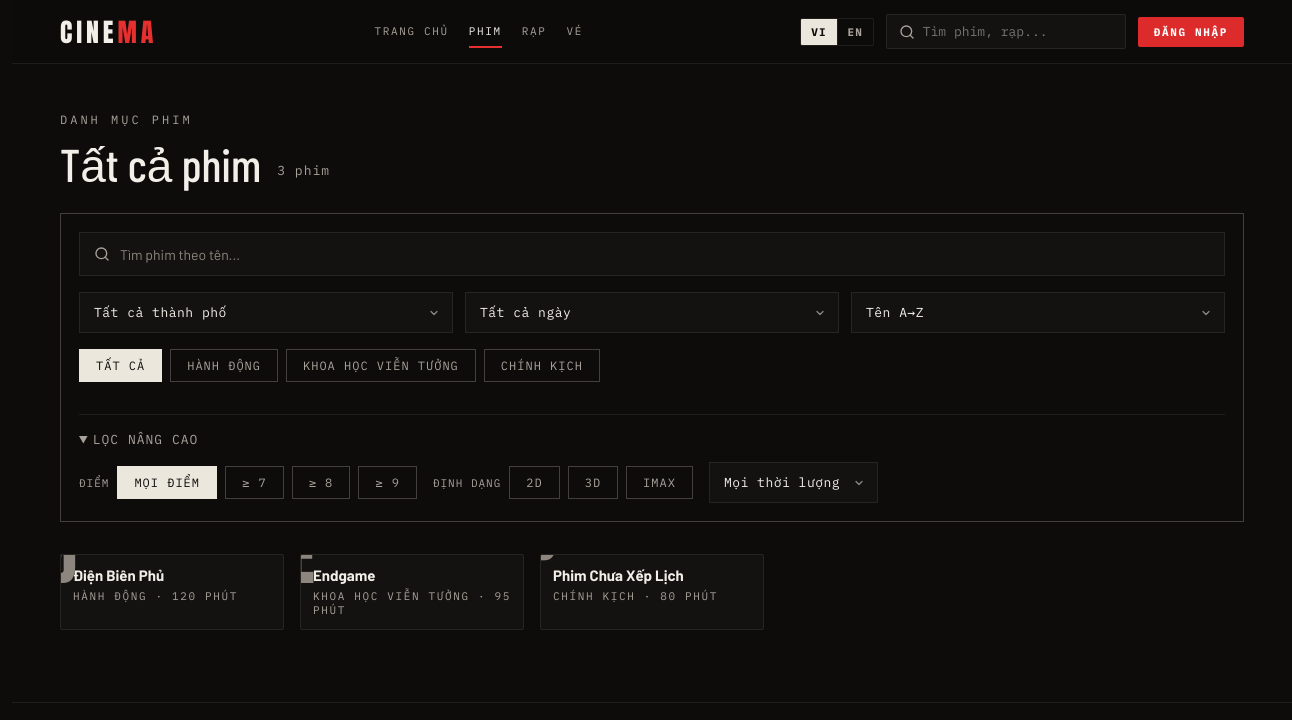
Scenario: Movies › chip điểm ≥ 8 chỉ giữ phim đủ điểm
Check: the text "Danh mục phim" is shown, box [60,112,193,127]
Check: the text "Điện Biên Phủ" is shown, box [73,566,164,584]
Click the button "≥ 8": (321, 483) [292,466,350,499]
(page scrolled)
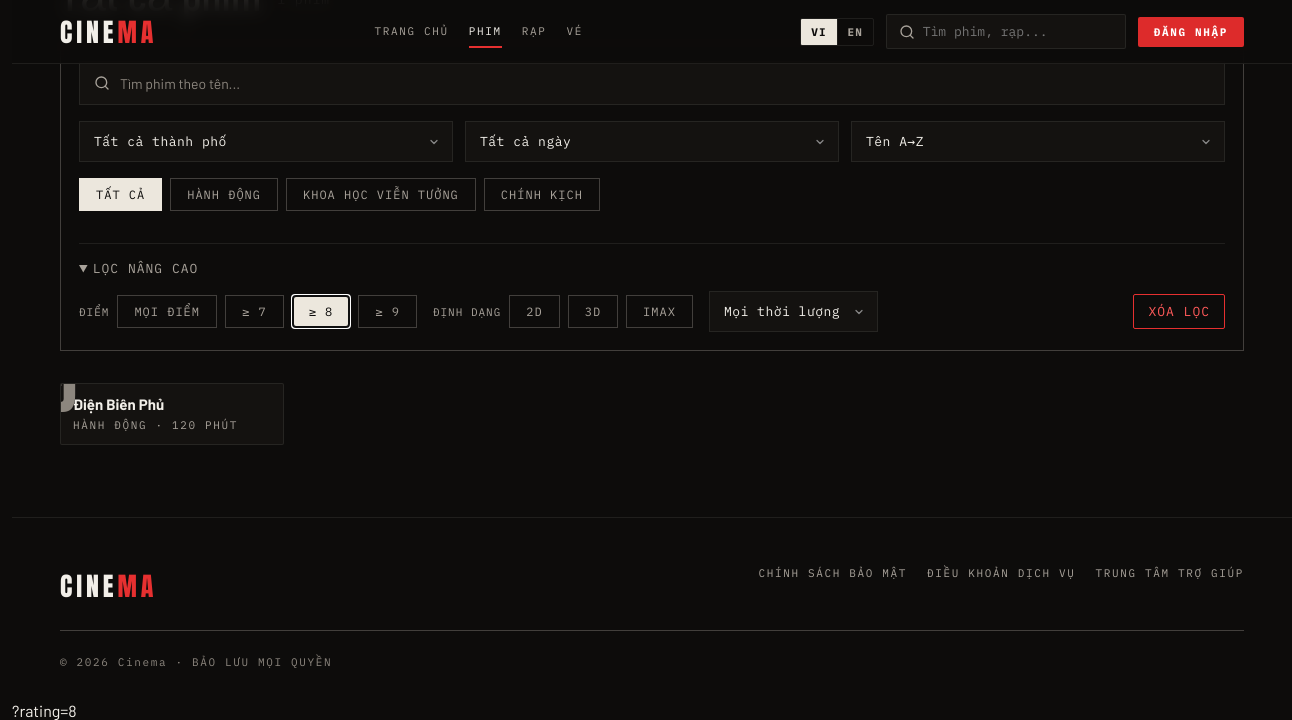
Check: the text with test id "qs" shows "rating=8", box [12,701,77,719]
